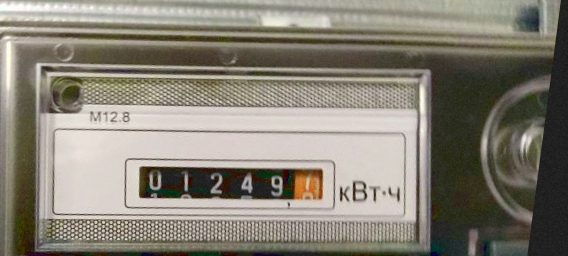0: (142, 163, 164, 191)
1: (174, 166, 192, 193)
2: (204, 168, 227, 196)
4: (236, 166, 258, 195)
7: (297, 166, 315, 192)
9: (265, 170, 287, 197)
screen: (111, 134, 352, 239)
